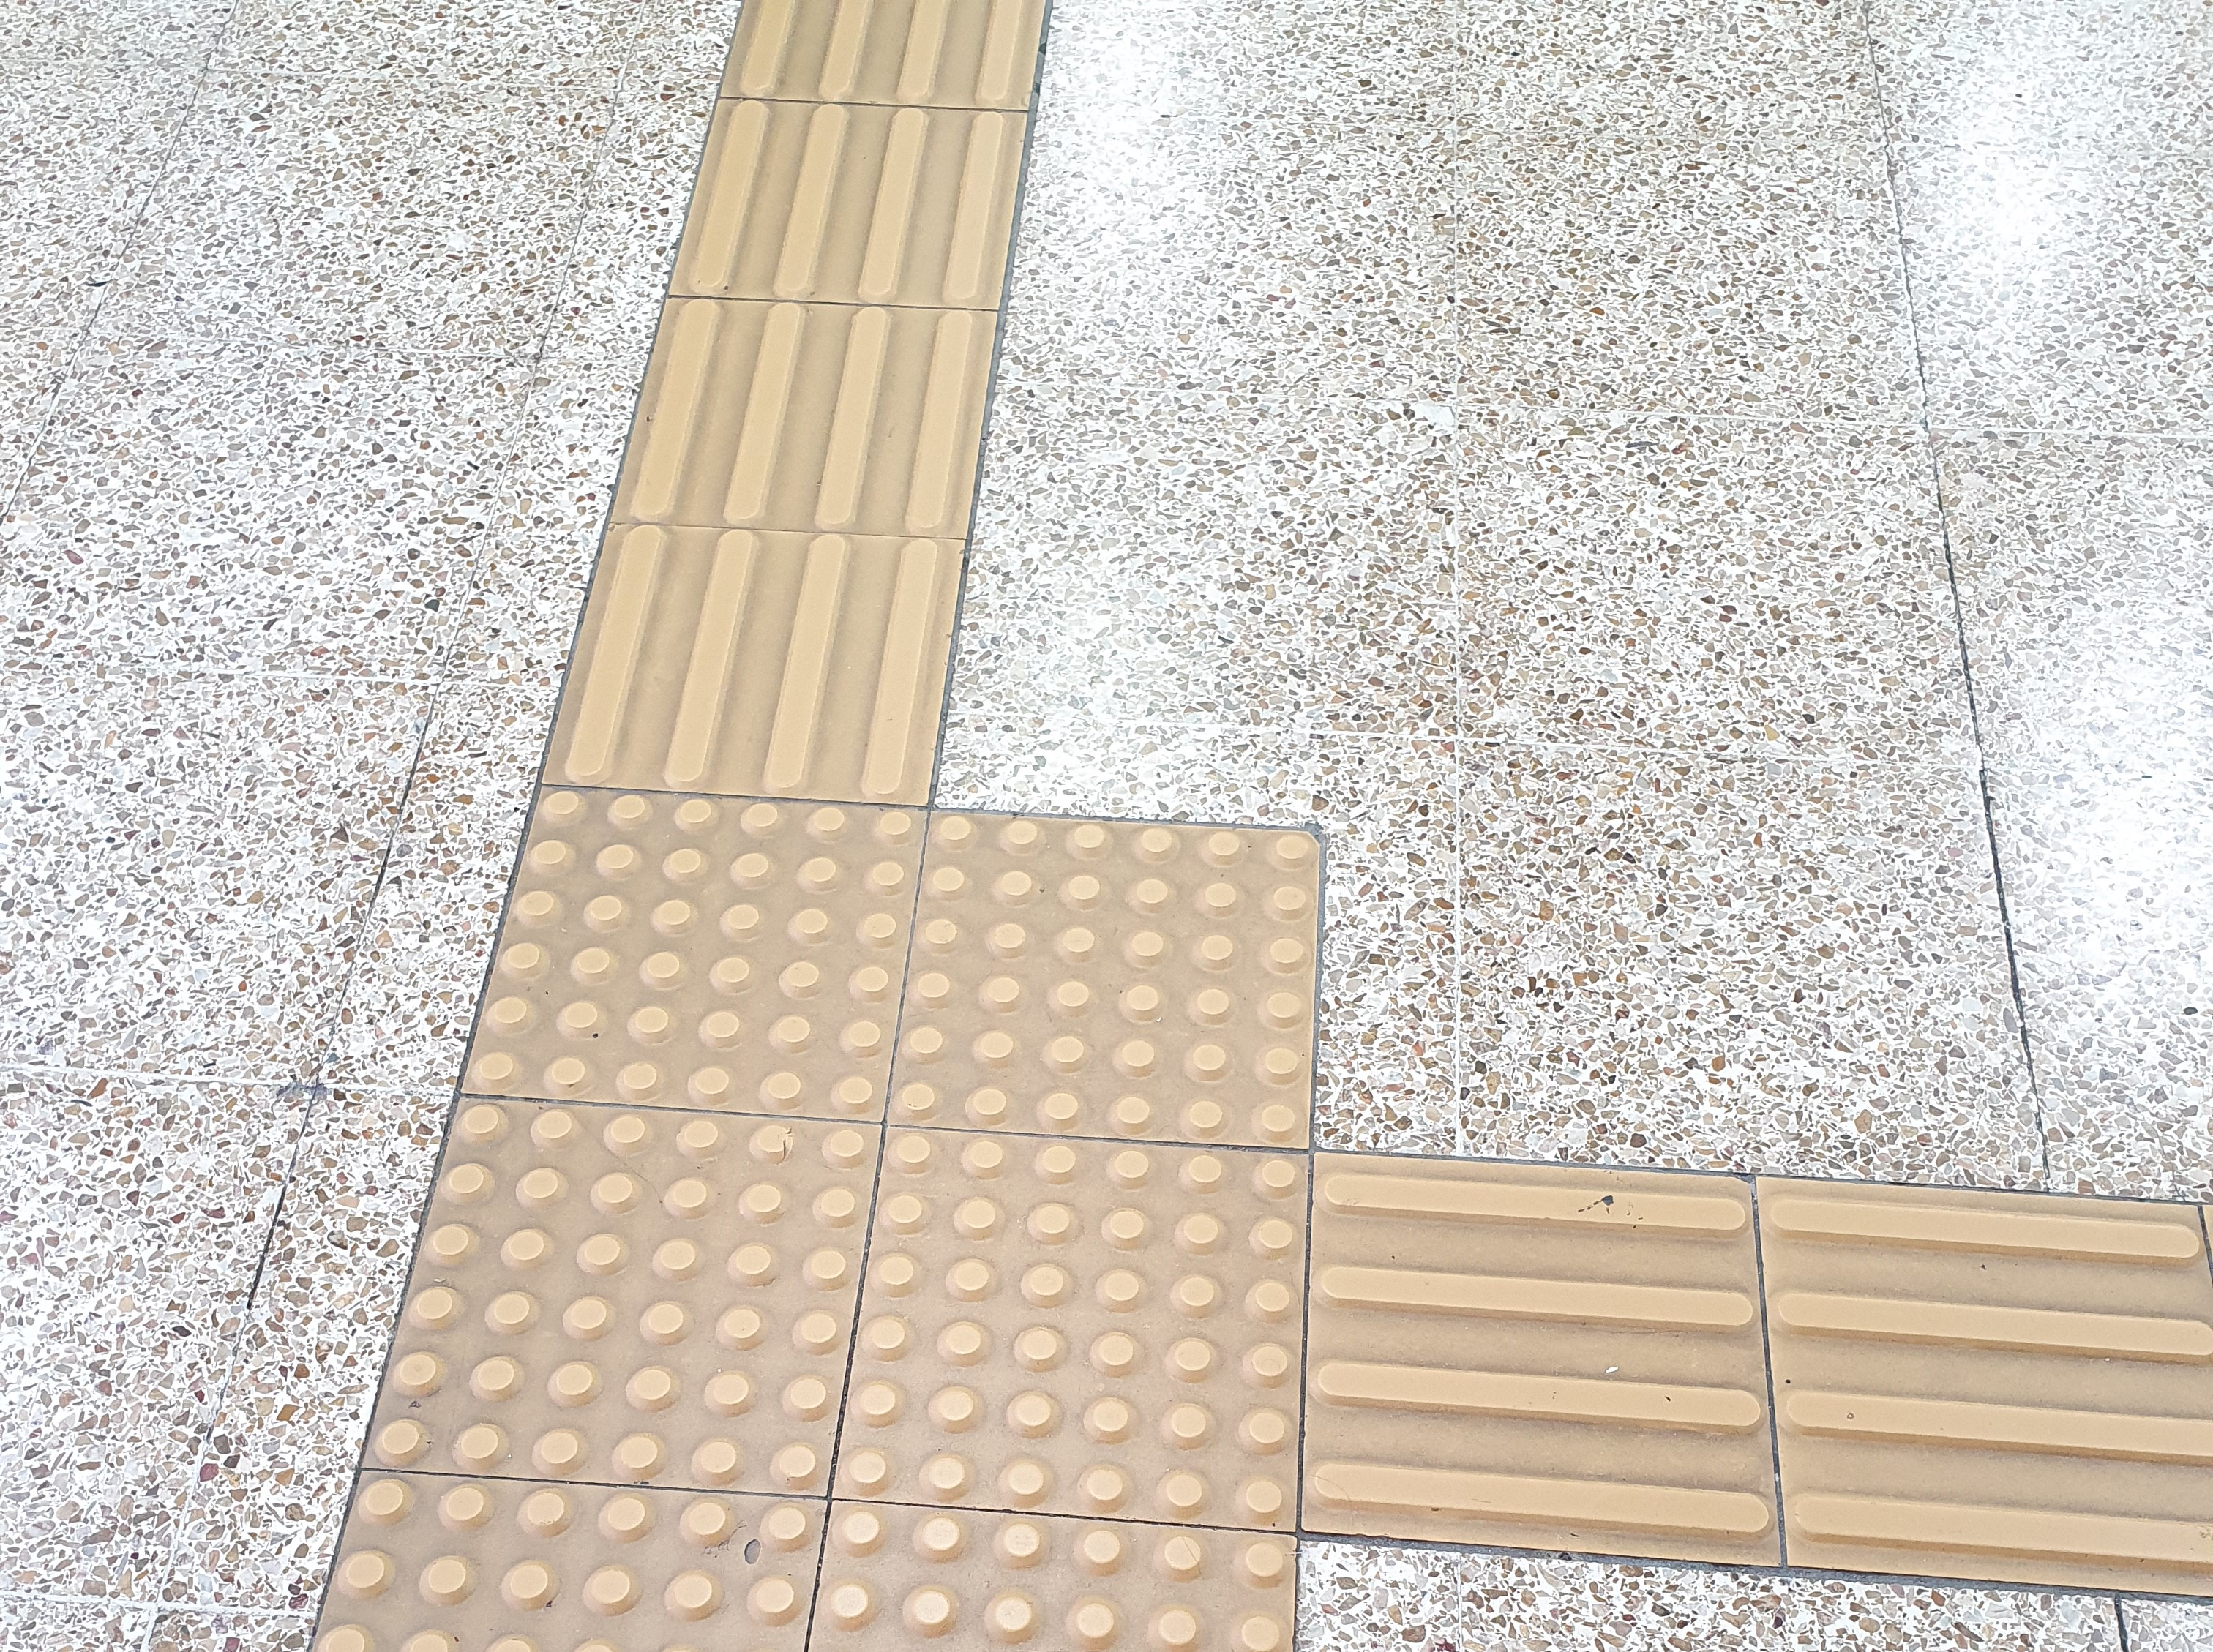guideBlock: (1316, 1149, 1779, 1583), (1767, 1194, 2213, 1577), (625, 283, 967, 529), (604, 533, 948, 776), (729, 101, 1010, 307)
warningBlock: (864, 1121, 1309, 1544), (460, 1116, 859, 1492), (906, 817, 1321, 1152), (519, 781, 887, 1100)
